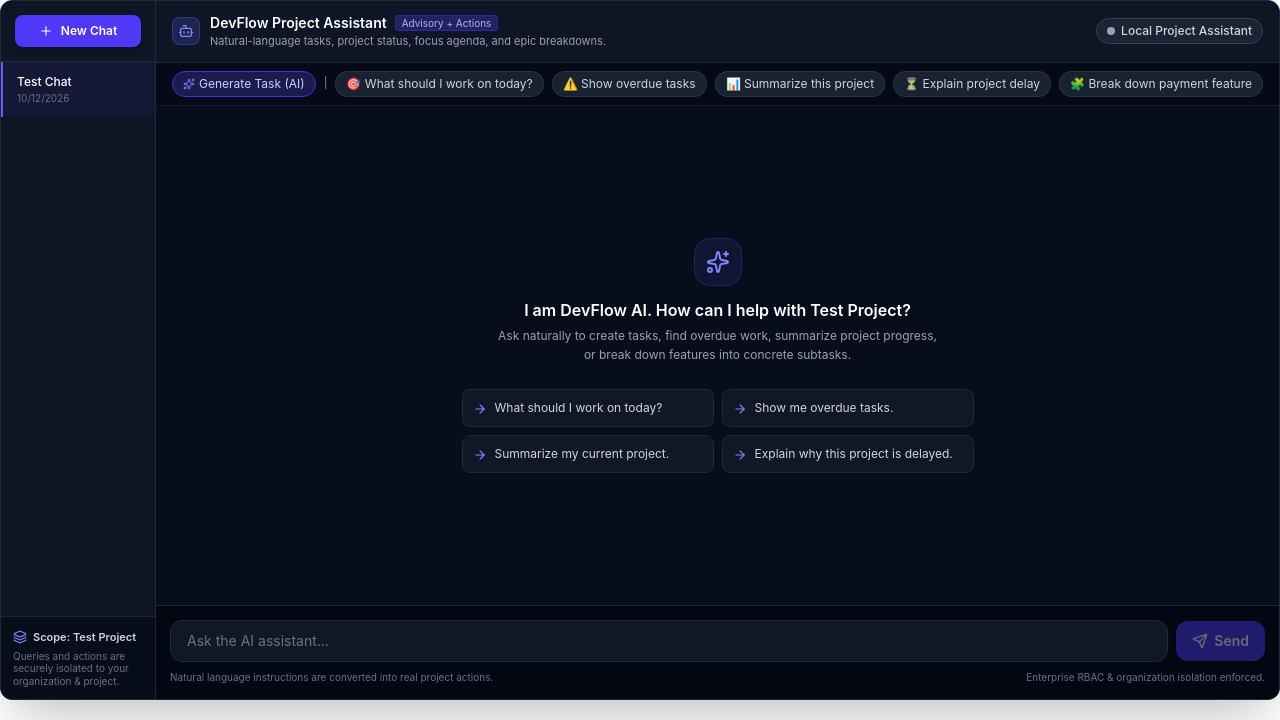
Scenario: ProjectAI Component › handles task generation action
Click the button "Generate Task (AI)": click(244, 84) x1=172 y1=70 x2=316 y2=96
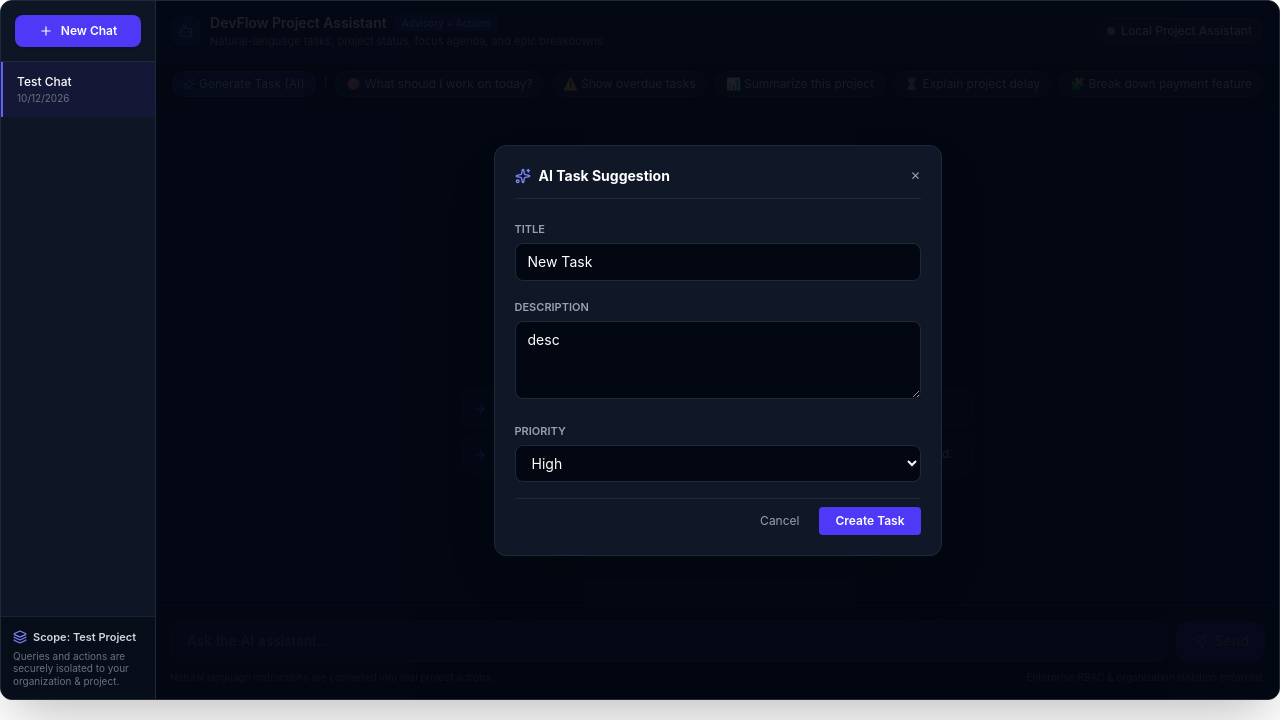
Now the text "AI Task Suggestion" is shown, box x1=538 y1=166 x2=670 y2=186
